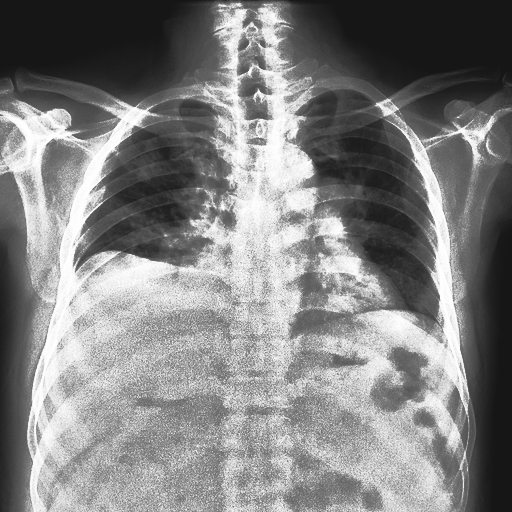Cardiomegaly: (341, 139, 442, 312), (116, 146, 202, 259)
Consolidation: (264, 147, 318, 208)
ILD: (139, 135, 214, 250)
Nodule/Mass: (182, 246, 405, 315)
Other lesion: (70, 246, 220, 282)
Pulmonary fibrosis: (322, 179, 368, 242)
